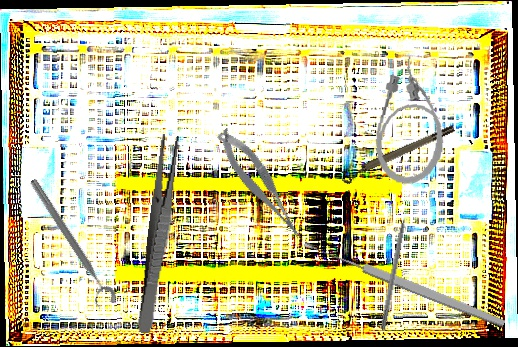Cannula: (370, 53, 454, 189)
Dressing Forceps: (135, 133, 183, 335)
Fixation Ring: (19, 175, 120, 313), (338, 123, 458, 186)
Hook Surgical: (379, 202, 412, 331)
Micro Scissor: (212, 121, 307, 249)
Surgical Spoon: (302, 237, 507, 330)
